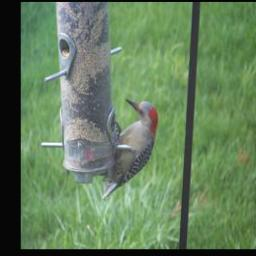Woodpecker: (100, 98, 157, 201)
